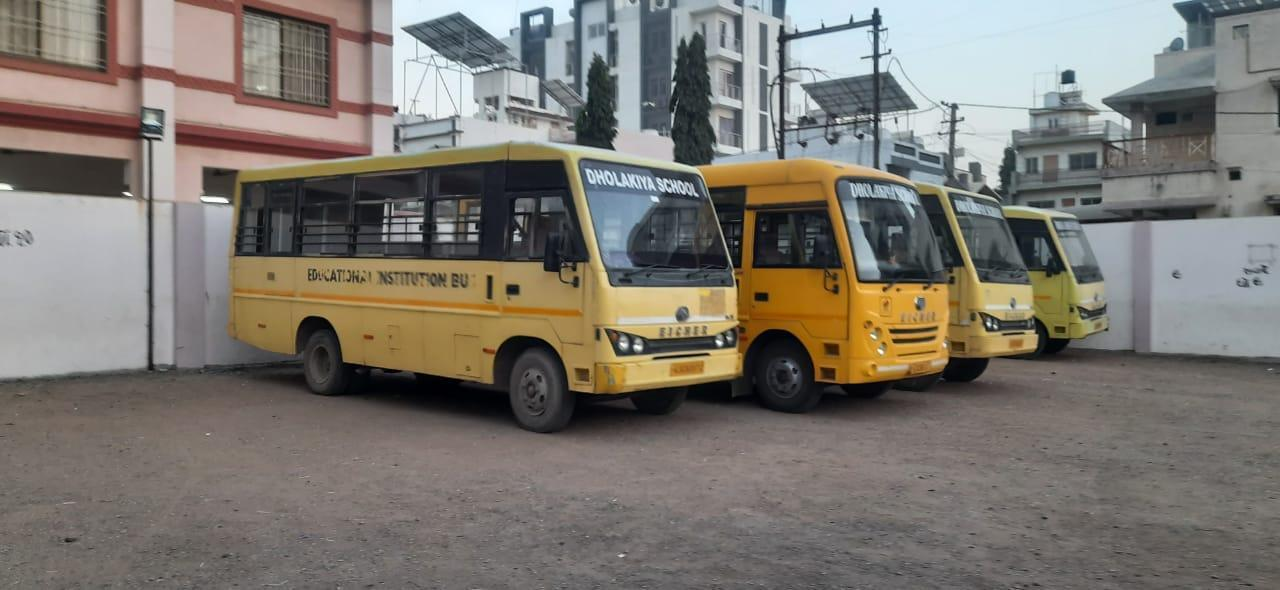Bus: (223, 139, 750, 450), (728, 154, 951, 411), (920, 172, 1047, 387), (1019, 203, 1123, 368)
